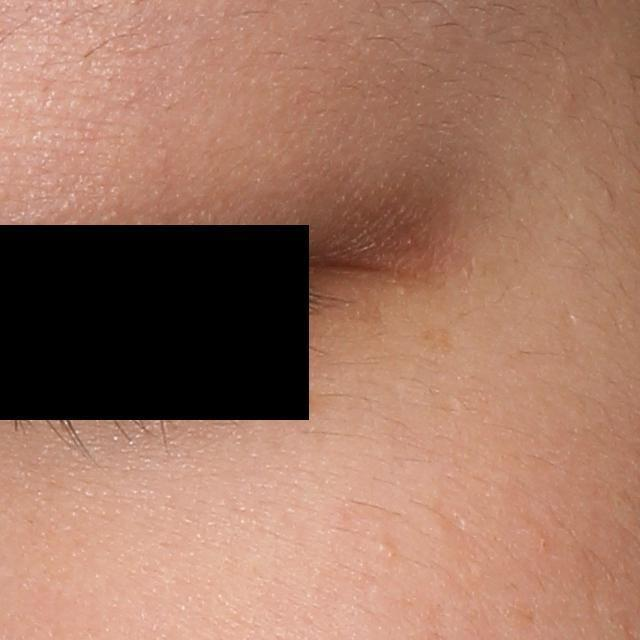comedo: (374, 536, 395, 561)
melasma: (421, 314, 455, 362)
